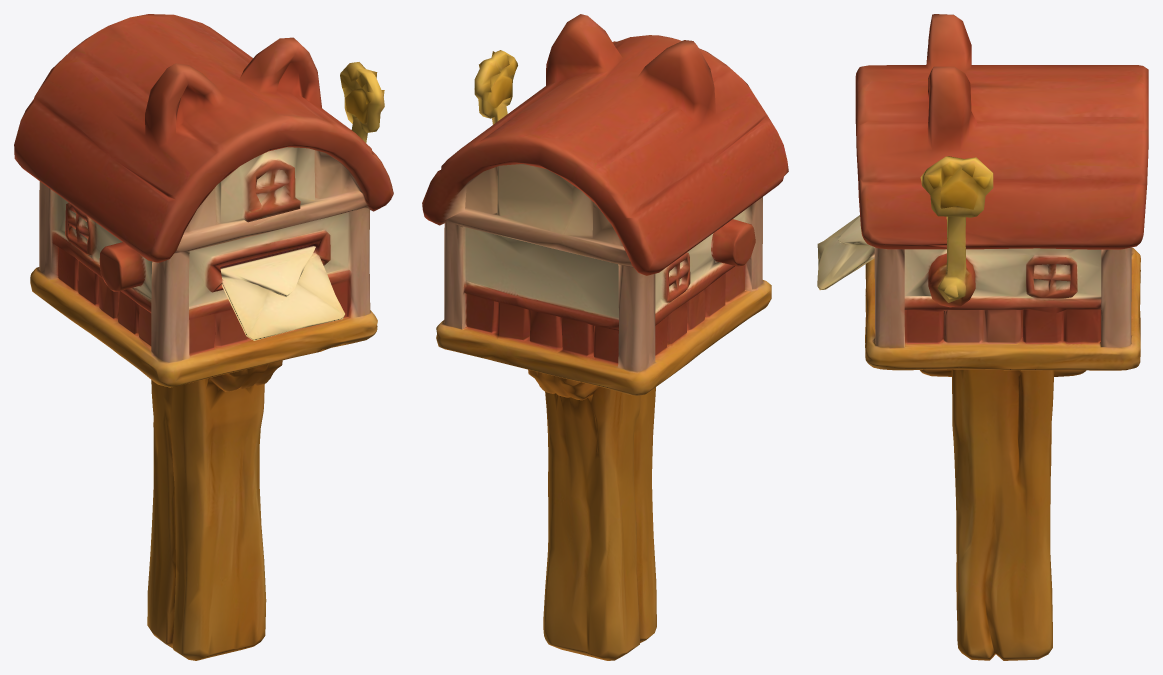
File: prop_mailbox.glb
3 renders of one model, left to right at view 1: azimuth 30°, elevation 25°; view 2: azimuth 150°, elevation 25°; view 3: azimuth 270°, elevation 25°, orthographic. The views are drawn at different scales.
Parts seen in each view (by area): view 1: tripo_node_48b5d0bd-cc7e-4f87-8ab2-44ec379d7675; view 2: tripo_node_48b5d0bd-cc7e-4f87-8ab2-44ec379d7675; view 3: tripo_node_48b5d0bd-cc7e-4f87-8ab2-44ec379d7675.
Part boxes in pixels (x1,y1,x2,y2): tripo_node_48b5d0bd-cc7e-4f87-8ab2-44ec379d7675: (14, 14, 393, 660); tripo_node_48b5d0bd-cc7e-4f87-8ab2-44ec379d7675: (422, 14, 788, 660); tripo_node_48b5d0bd-cc7e-4f87-8ab2-44ec379d7675: (817, 14, 1148, 660).
Size of the model in its own units: 0.4593 by 1 by 0.4984.
1 material, 1 textured.
